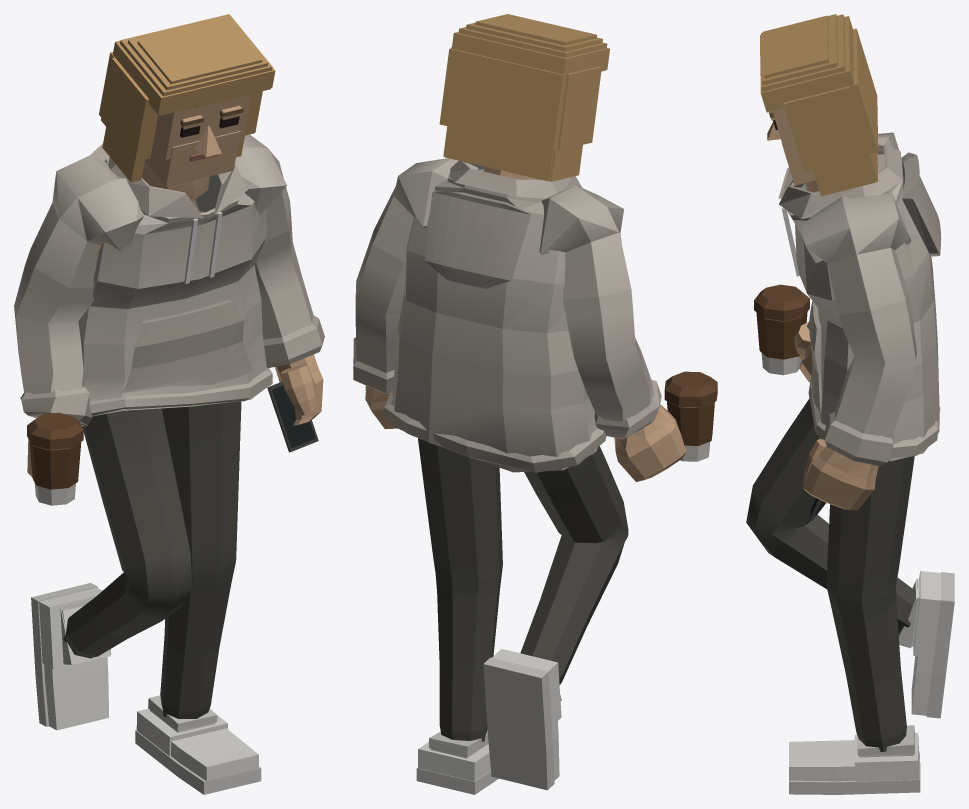
File: student-in-a-hoodie-7c8223__walk2.glb
3 renders of one model, left to right at view 1: azimuth 30°, elevation 25°; view 2: azimuth 150°, elevation 25°; view 3: azimuth 270°, elevation 25°, orthographic. The views are drawn at different scales.
Parts seen in each view (by area): view 1: student-in-a-hoodie-7c8223__walk2; view 2: student-in-a-hoodie-7c8223__walk2; view 3: student-in-a-hoodie-7c8223__walk2.
Part boxes in pixels (x1=…): student-in-a-hoodie-7c8223__walk2: x1=14, y1=14, x2=324, y2=794; student-in-a-hoodie-7c8223__walk2: x1=353, y1=14, x2=717, y2=794; student-in-a-hoodie-7c8223__walk2: x1=746, y1=14, x2=954, y2=794.
Size of the model in its own units: 0.8041 by 1.73 by 0.4494.
